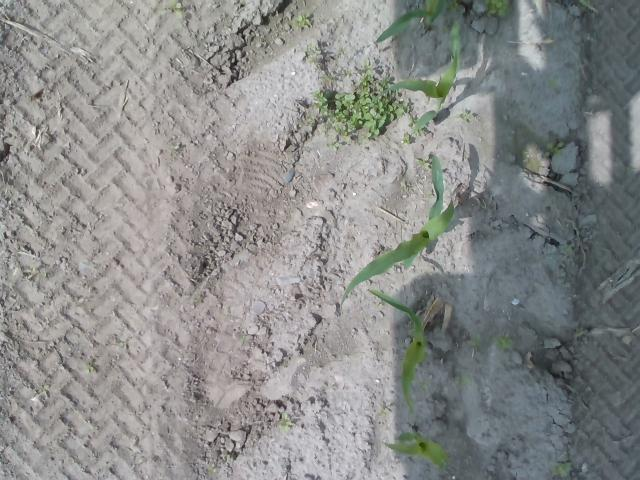Maize: (339, 154, 456, 308), (391, 18, 462, 137), (368, 286, 429, 418), (382, 425, 449, 470), (374, 0, 442, 43)
Weeds: (311, 61, 411, 151), (548, 459, 572, 480), (482, 0, 512, 16), (542, 140, 564, 156), (275, 413, 293, 431), (494, 335, 514, 350), (166, 0, 182, 18), (298, 14, 314, 30), (454, 375, 472, 386), (304, 42, 318, 56), (468, 332, 482, 346), (560, 243, 576, 255), (415, 158, 430, 170), (412, 128, 432, 137), (458, 110, 472, 122), (418, 380, 428, 393), (82, 367, 96, 374), (239, 335, 245, 344)
